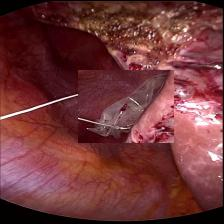Specimen Bag: (78, 69, 174, 142)
